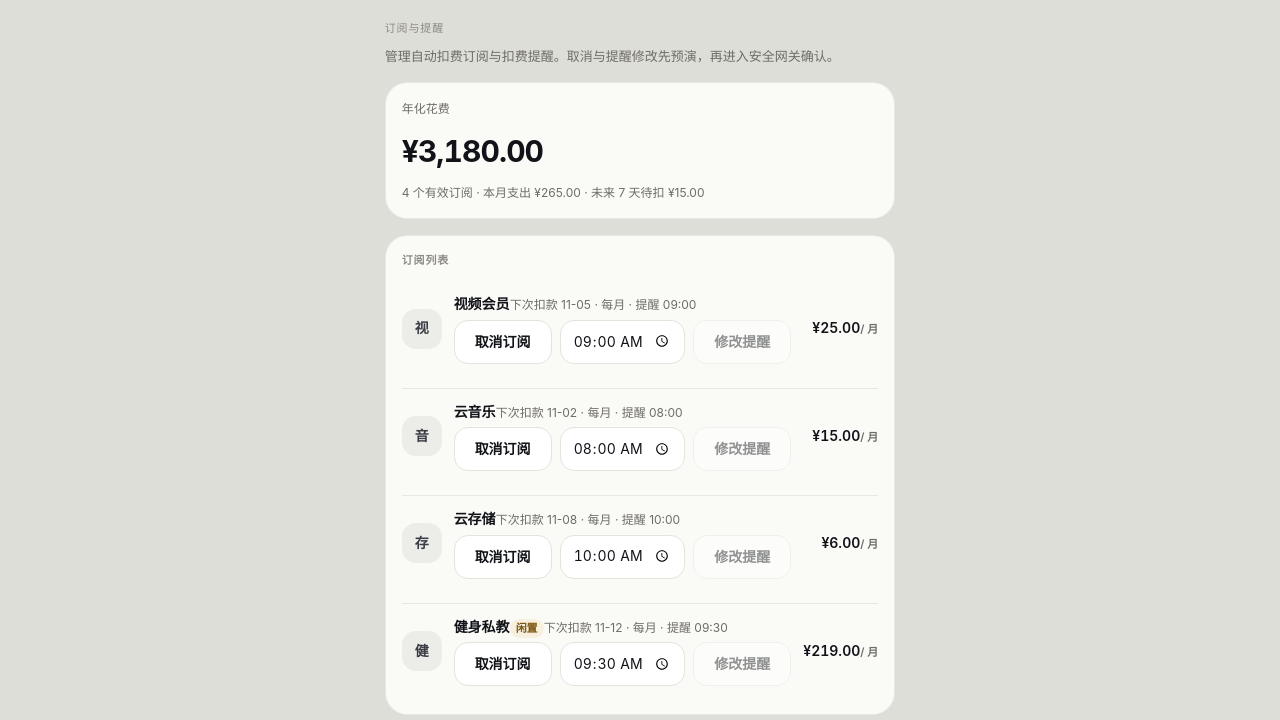
Test: SubscriptionsPage › red cancel does not show investment advice
Expected: the text "视频会员" is shown, [454,295,510,312]
Click the button "取消订阅" below "视频会员" at (503, 342), box [454,320,552,364]
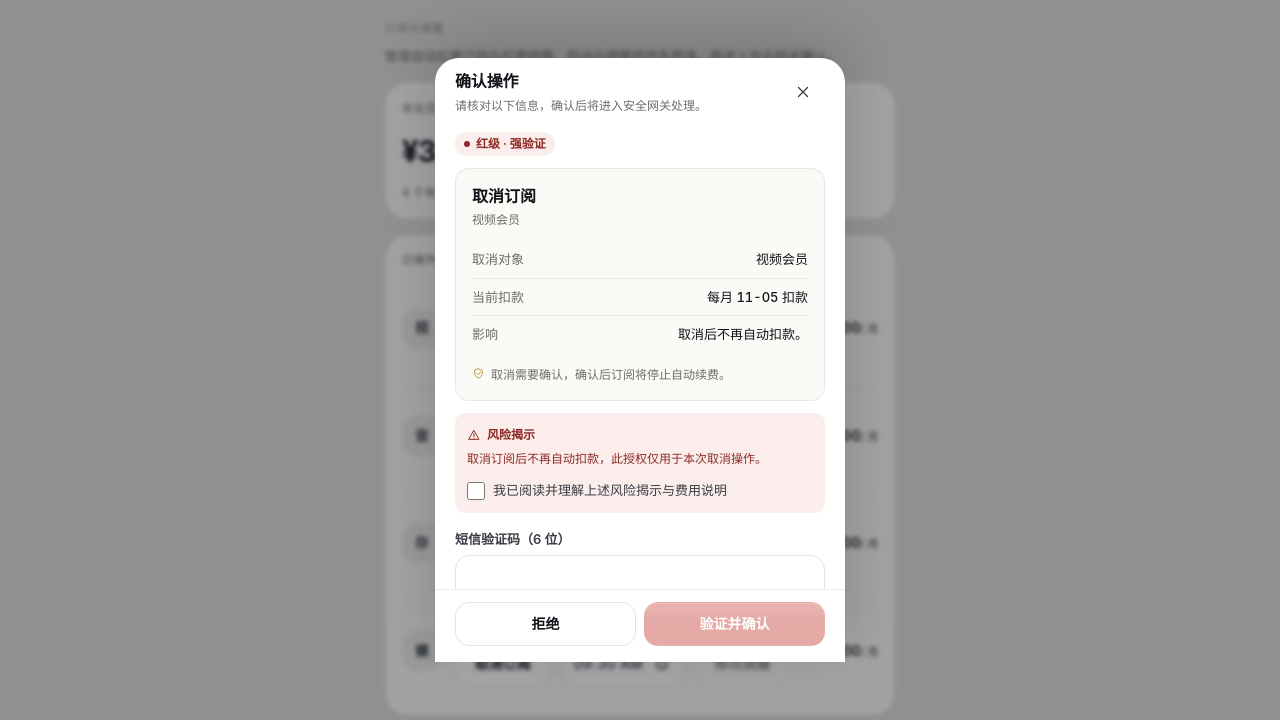
Expected: the text "红级 · 强验证" is shown, [455,132,555,156]
